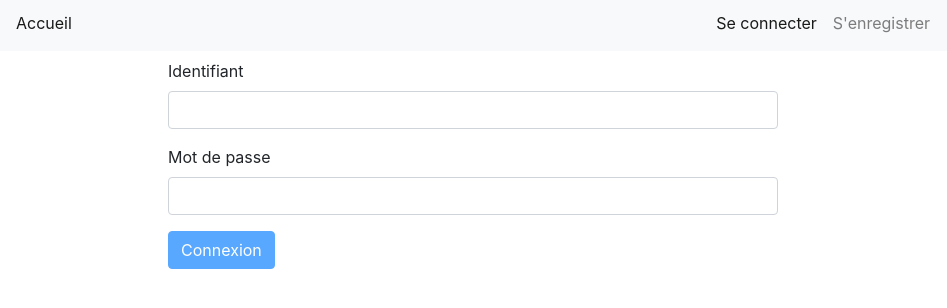
Test case: The signin page › echec authenticate
Type "artiz" into the field with id "username" at (473, 110), box 168,91 -> 778,129
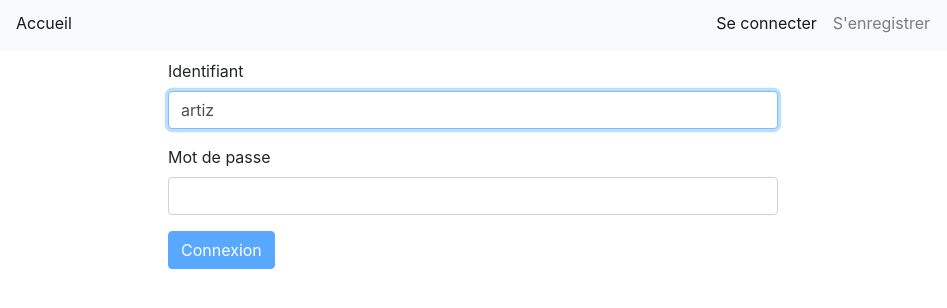
Type "coucou" into the password field labelled "Mot de passe" at (473, 196), box 168,177 -> 778,215
Then press Enter
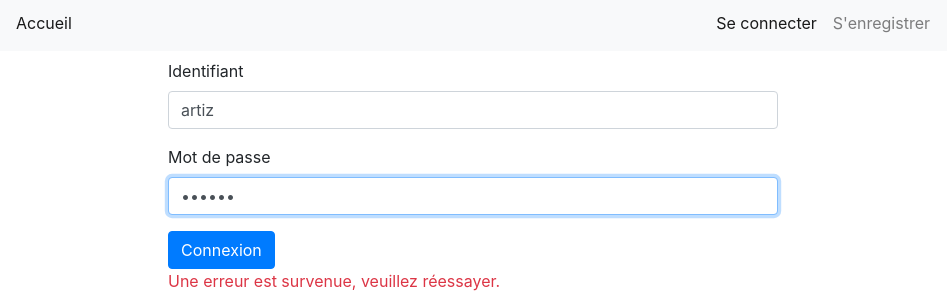
Check: the text "Une erreur" is shown, box 168,271 -> 500,291
